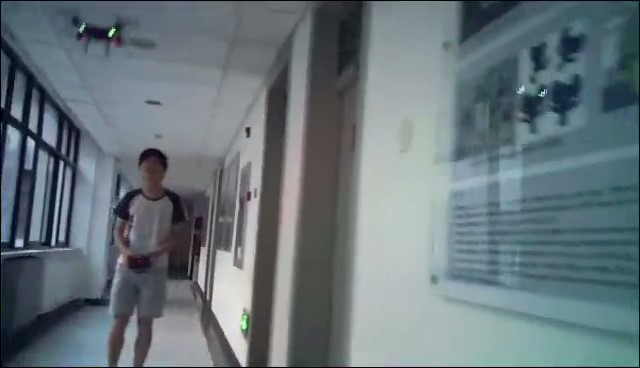drone: (48, 4, 139, 56)
person: (106, 147, 193, 368)
